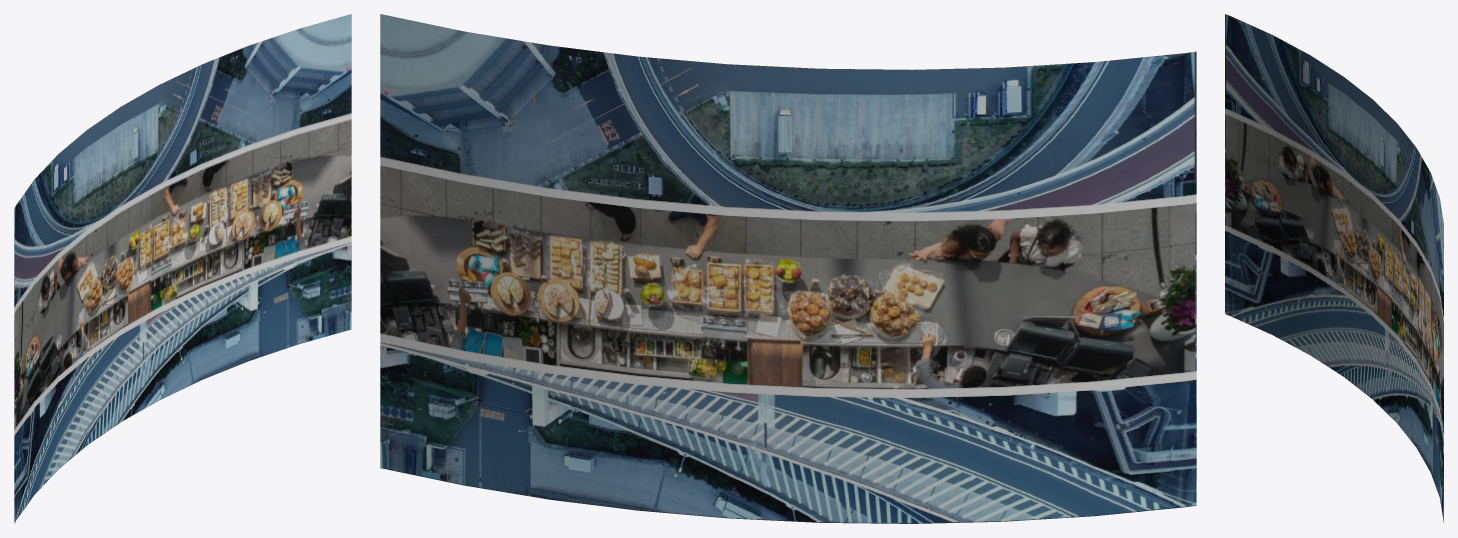
The model's file is TZ_Curved_screens_05.glb.
3 renders of one model, left to right at view 1: azimuth 30°, elevation 25°; view 2: azimuth 150°, elevation 25°; view 3: azimuth 270°, elevation 25°, orthographic. The views are drawn at different scales.
Parts seen in each view (by area): view 1: TZ_Curved_screens_05; view 2: TZ_Curved_screens_05; view 3: TZ_Curved_screens_05.
Boxes of the visible parts, x1,y1,x2,y2 form: TZ_Curved_screens_05: (14,14,351,523); TZ_Curved_screens_05: (380,14,1196,523); TZ_Curved_screens_05: (1225,14,1443,523).
Size of the model in its own units: 3.17 by 2.12 by 1.4.
Materials: 1 (1 with a texture image).
